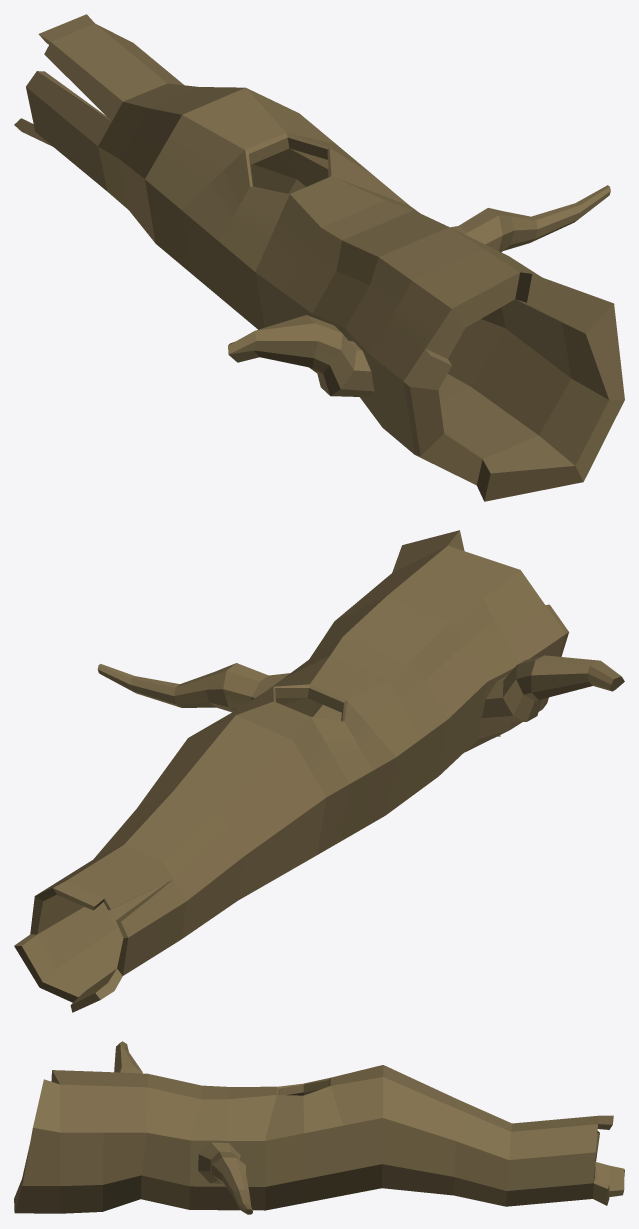
The model's file is FallenTree1.fbx.
The picture shows the model from 3 angles, top to bottom: view 1: azimuth 30°, elevation 25°; view 2: azimuth 150°, elevation 25°; view 3: azimuth 270°, elevation 25°; orthographic projection. The views are drawn at different scales.
Visible parts, largest first — view 1: Circle; view 2: Circle; view 3: Circle.
Part boxes in pixels (x1=…): Circle: x1=14, y1=14, x2=624, y2=501; Circle: x1=14, y1=530, x2=624, y2=1012; Circle: x1=14, y1=1041, x2=624, y2=1214.
Size of the model in its own units: 911 by 392 by 1578.
